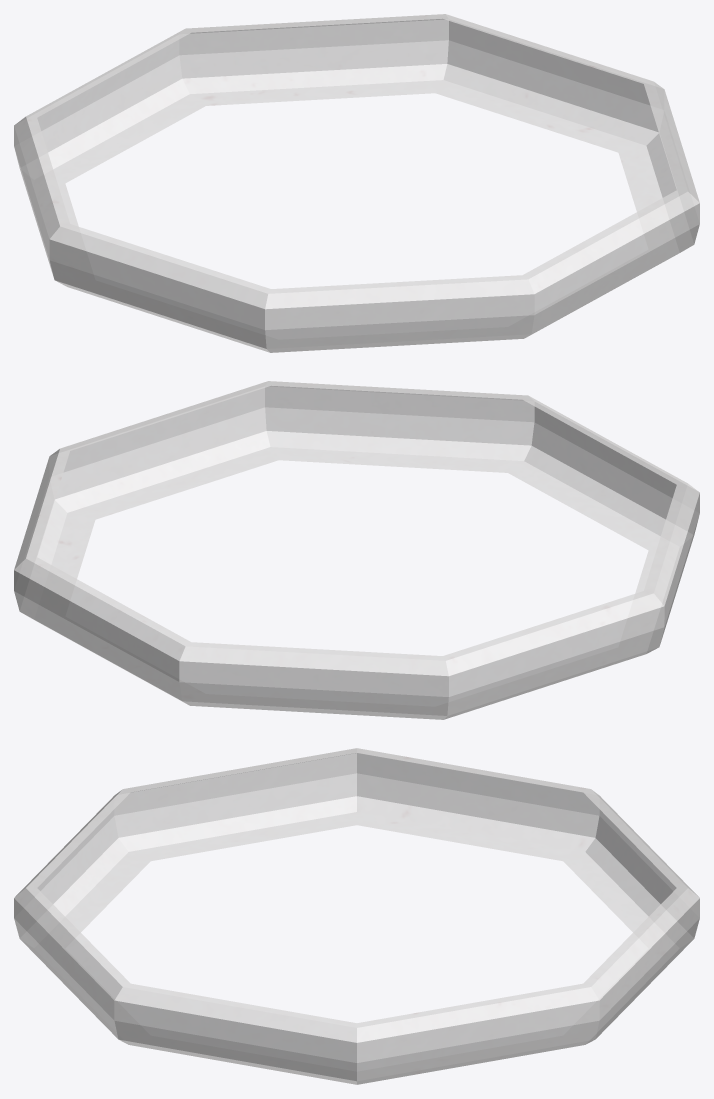
3 renders of one model, top to bottom at view 1: azimuth 30°, elevation 25°; view 2: azimuth 150°, elevation 25°; view 3: azimuth 270°, elevation 25°, orthographic. The views are drawn at different scales.
Size of the model in its own units: 0.2005 by 0.0195 by 0.2005.
Materials: 1 (1 with a texture image).
